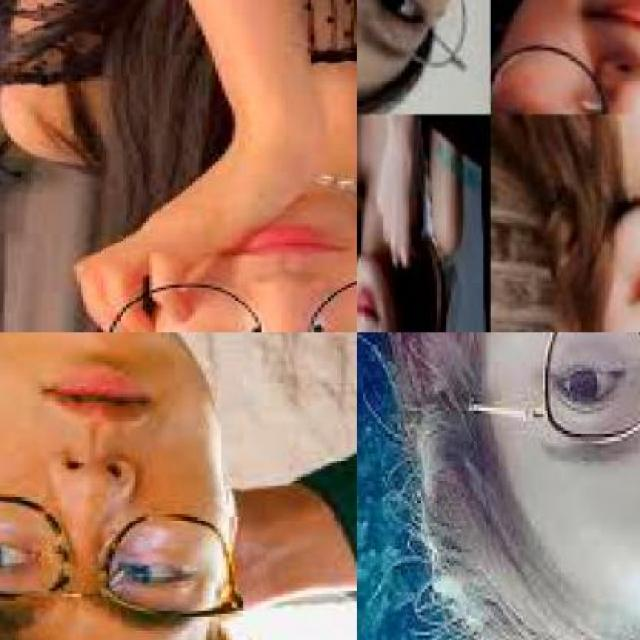glasses: (0, 487, 272, 626), (463, 341, 640, 438), (102, 275, 356, 331), (492, 32, 638, 116), (357, 0, 491, 88)
